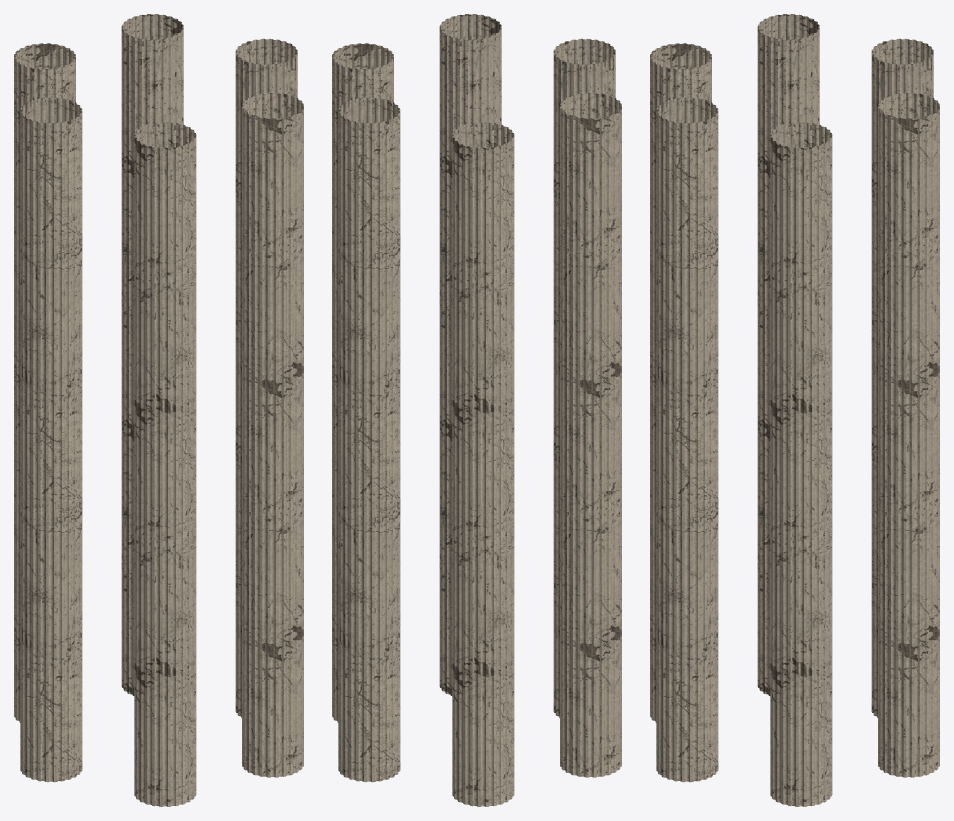
Rendered from Skeeball_Columns.glb.
The picture shows the model from 3 angles, left to right: view 1: azimuth 30°, elevation 25°; view 2: azimuth 150°, elevation 25°; view 3: azimuth 270°, elevation 25°; orthographic projection.
Visible parts, largest first — view 1: Columns; view 2: Columns; view 3: Columns.
Part boxes in pixels (box(x1,y1,x2,y2)): Columns: box(14, 14, 303, 806); Columns: box(332, 14, 621, 806); Columns: box(650, 14, 939, 806).
Size of the model in its own units: 290 by 662 by 264.
1 material, 1 textured.
